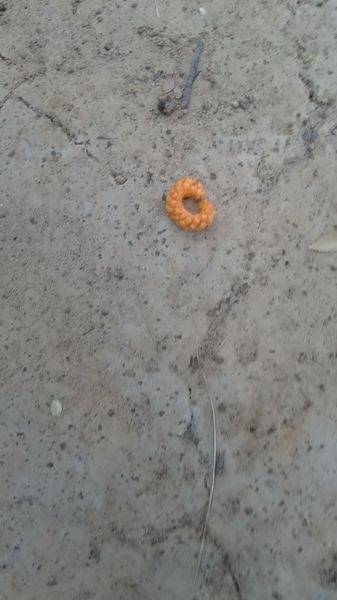eggs: (163, 177, 222, 235)
